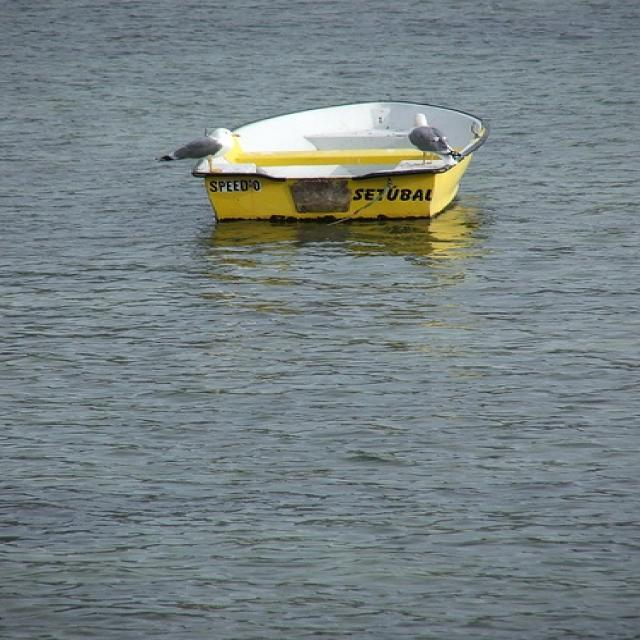bird: (157, 127, 241, 178), (406, 111, 469, 169)
boat: (155, 94, 497, 226)
